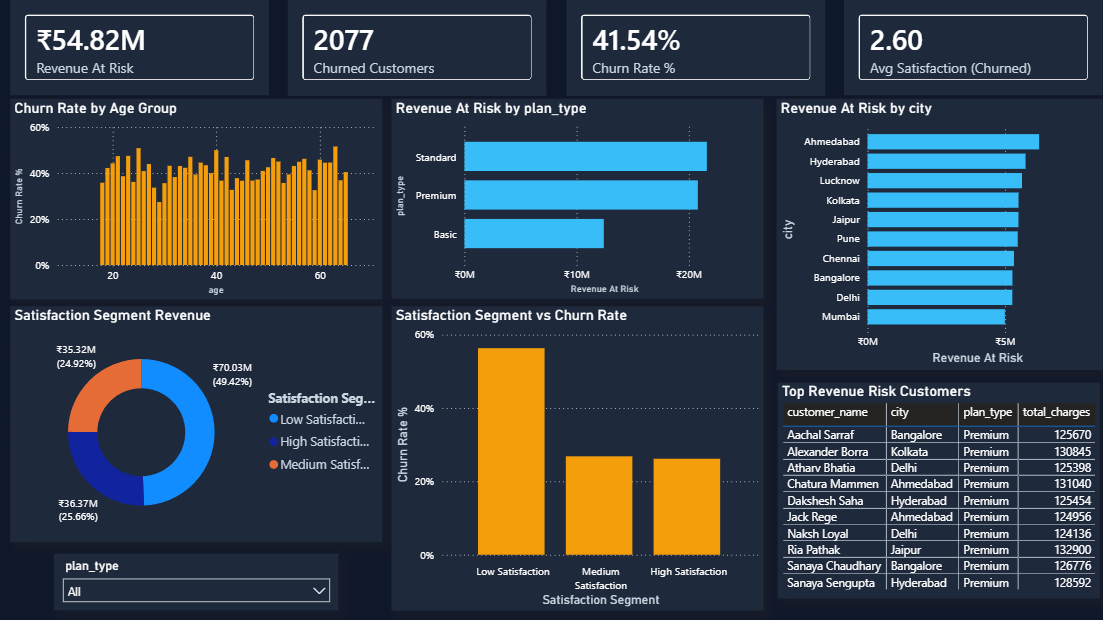

Layout of this report page (visuals, bound fields, positions):
{"tool":"powerbi","page":{"name":"Advanced Churn Intelligence","canvas":[1280,720],"ordinal":3},"visuals":[{"type":"cardVisual","fields":{"Data":["Measures .Revenue At Risk"]},"box":[12.5,0,300,110],"z":0},{"type":"cardVisual","fields":{"Data":["Measures .Churned Customers"]},"box":[334.9,0,300,110.9],"z":1},{"type":"cardVisual","fields":{"Data":["Measures .Churn Rate %"]},"box":[657.3,0,300,110.9],"z":2},{"type":"cardVisual","fields":{"Data":["Measures .Avg Satisfaction (Churned)"]},"box":[979.7,0,300,110],"z":3},{"type":"clusteredColumnChart","title":"Churn Rate by Age Group","fields":{"Category":["customers.age"],"Y":["Measures .Churn Rate %"]},"box":[12.5,114.1,431.2,232.8],"z":4},{"type":"clusteredBarChart","fields":{"Category":["customers.plan_type"],"Y":["Measures .Revenue At Risk"]},"box":[454.7,114.1,431,232],"z":5},{"type":"donutChart","title":"Satisfaction Segment Revenue","fields":{"Y":["Measures .Total Revenue"],"Category":["customers.Satisfaction Segment"]},"box":[12.5,354.7,431.2,273.4],"z":6},{"type":"clusteredColumnChart","title":"Satisfaction Segment vs Churn Rate","fields":{"Y":["Measures .Churn Rate %"],"Category":["customers.Satisfaction Segment"]},"box":[454.7,354.7,431.2,353.1],"z":7},{"type":"tableEx","title":"Top Revenue Risk Customers","fields":{"Values":["customers.customer_name","customers.city","customers.plan_type","customers.total_charges"]},"box":[903.1,443.8,373.4,250],"z":8},{"type":"clusteredBarChart","fields":{"Category":["customers.city"],"Y":["Measures .Revenue At Risk"]},"box":[901.6,114.1,378.1,314.1],"z":9},{"type":"slicer","fields":{"Values":["customers.plan_type"]},"box":[64.1,642.2,329.7,65.6],"z":10}]}

Visuals, with their boxes in screenshot pixels (x1, y1, x2, y2), scaled from the page's 1280x720 canvas onto the 1103x620 screenshot:
cardVisual - Measures .Revenue At Risk: bbox(11, 0, 269, 95)
cardVisual - Measures .Churned Customers: bbox(289, 0, 547, 95)
cardVisual - Measures .Churn Rate %: bbox(566, 0, 825, 95)
cardVisual - Measures .Avg Satisfaction (Churned): bbox(844, 0, 1102, 95)
"Churn Rate by Age Group" clusteredColumnChart: bbox(11, 98, 382, 299)
clusteredBarChart - customers.plan_type x Measures .Revenue At Risk: bbox(392, 98, 763, 298)
"Satisfaction Segment Revenue" donutChart: bbox(11, 305, 382, 541)
"Satisfaction Segment vs Churn Rate" clusteredColumnChart: bbox(392, 305, 763, 609)
"Top Revenue Risk Customers" tableEx: bbox(778, 382, 1100, 597)
clusteredBarChart - customers.city x Measures .Revenue At Risk: bbox(777, 98, 1102, 369)
slicer - customers.plan_type: bbox(55, 553, 339, 609)
